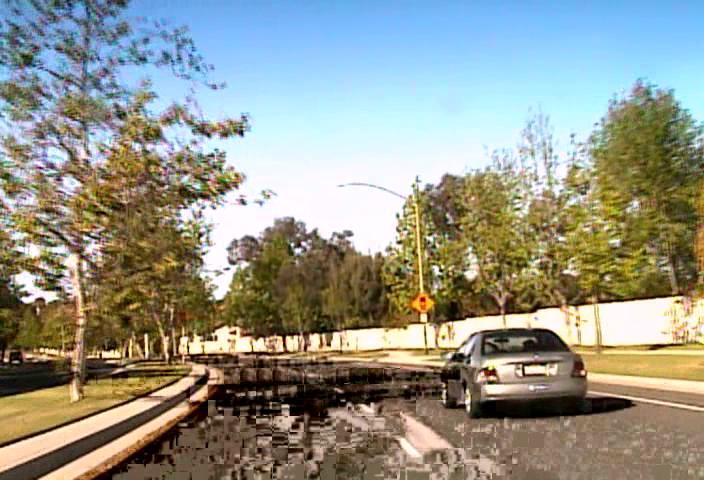signalAhead: (410, 291, 436, 314)
